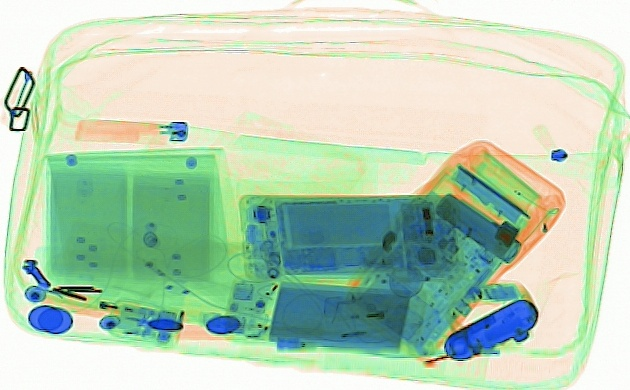lighter: (39, 286, 177, 341), (320, 293, 426, 327), (72, 116, 190, 144)
